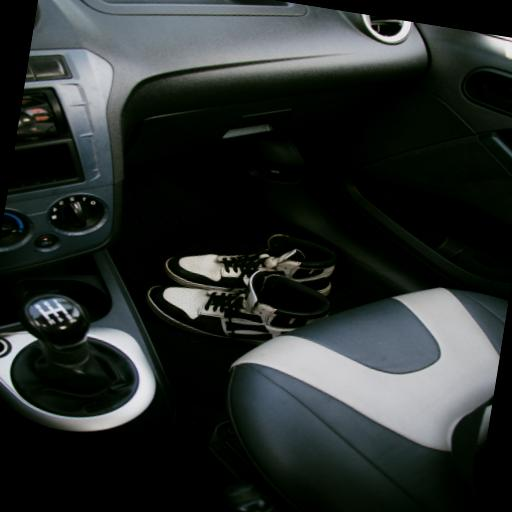shoe: (146, 271, 328, 344), (164, 235, 336, 295)
